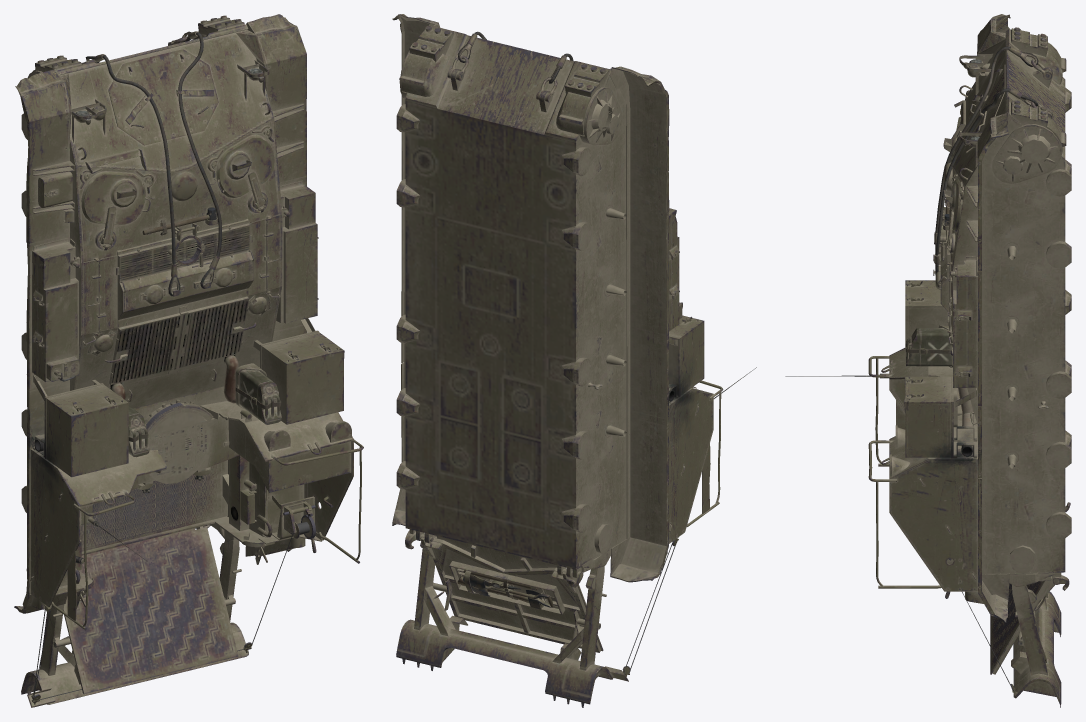
Rendered from Hull.glb.
3 views of the same model, side by side, from view 1: azimuth 30°, elevation 25°; view 2: azimuth 150°, elevation 25°; view 3: azimuth 270°, elevation 25° (orthographic). The views are drawn at different scales.
Parts seen in each view (by area): view 1: set_0_group_0; view 2: set_0_group_0; view 3: set_0_group_0.
Part boxes in pixels (bbox=[...]): set_0_group_0: bbox=[14, 14, 363, 707]; set_0_group_0: bbox=[392, 14, 756, 707]; set_0_group_0: bbox=[785, 14, 1071, 707].
Size of the model in its own units: 2.87 by 6.38 by 2.77.
Materials: 1 (1 with a texture image).
